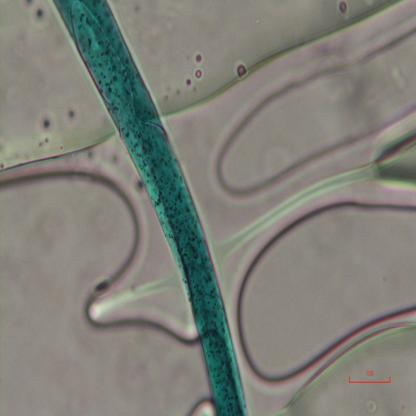Background material: (183, 1, 416, 415), (0, 129, 195, 406), (31, 102, 52, 145), (21, 0, 50, 25), (58, 101, 82, 128), (193, 51, 212, 84), (173, 71, 198, 95), (231, 60, 250, 79), (93, 278, 110, 298), (337, 0, 350, 16)
Microfibre: (52, 0, 248, 414)
